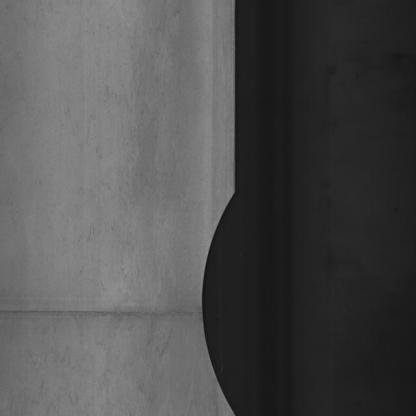crescent_gap: (189, 180, 265, 416)
welding_line: (3, 294, 221, 329)
